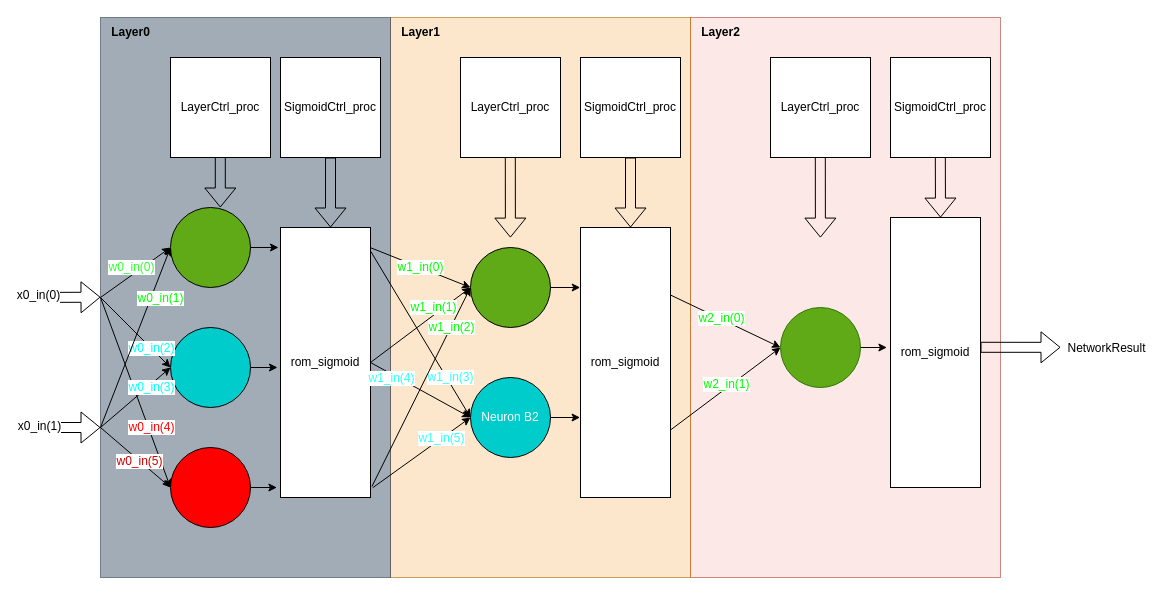
Some shapes in this 1162 by 595 pixel diagram are drawn without their labels. Here are the shapes that lost their labels. From the top down, the centre of each, then its label:
At pixel 210 247: "Neuron A1".
At pixel 510 287: "Neuron B1".
At pixel 210 367: "Neuron A2".
At pixel 820 347: "Neuron Y".
At pixel 210 487: "Neuron A3".
